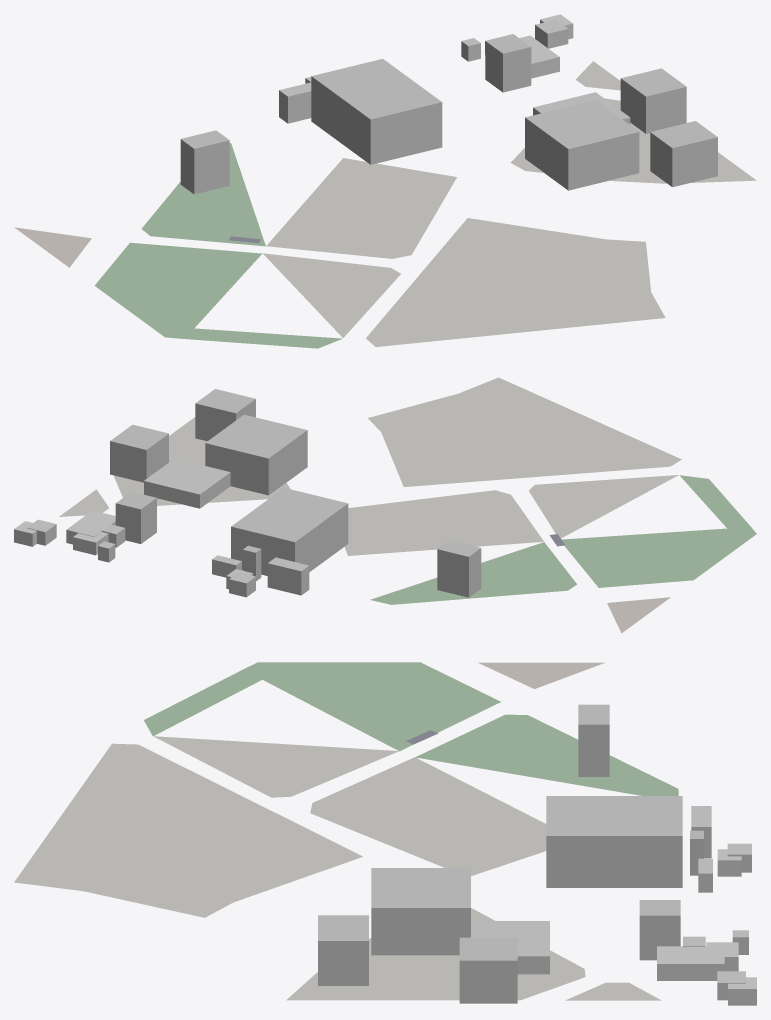
Rendered from 130_108_mid.glb.
The picture shows the model from 3 angles, top to bottom: view 1: azimuth 30°, elevation 25°; view 2: azimuth 150°, elevation 25°; view 3: azimuth 270°, elevation 25°; orthographic projection. The views are drawn at different scales.
Bounding box in the file's own units: 507 × 36.24 × 463.
